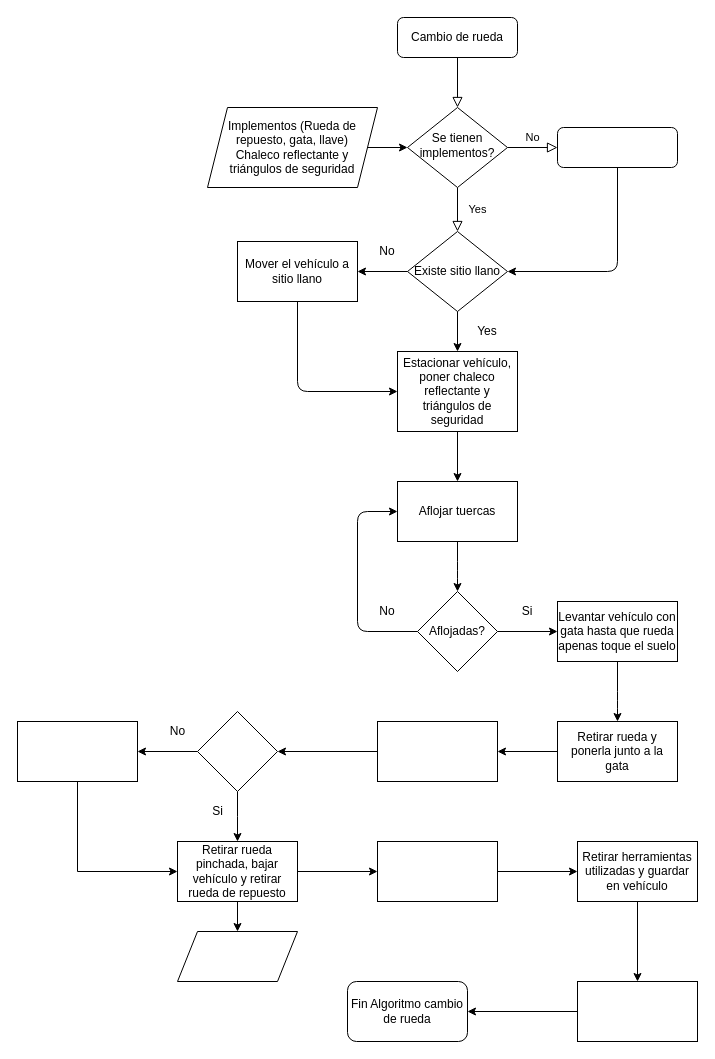
The diagram is 715 pixels wide and 1059 high, and some of its shapes have lost their labels. Here are the shapes that lost their labels. From the top down, the centre of each, then its label:
At point 617,147: "Comprar".
At point 77,751: "Seguir apretando".
At point 237,751: "Están bien apretados?".
At point 437,751: "Colocar rueda de repuesto y apretar tornillos manualmente".
At point 437,871: "Apretar tornillos con llave".
At point 237,956: "Rueda pinchada".
At point 637,1011: "Retirar chaleco reflectante".
